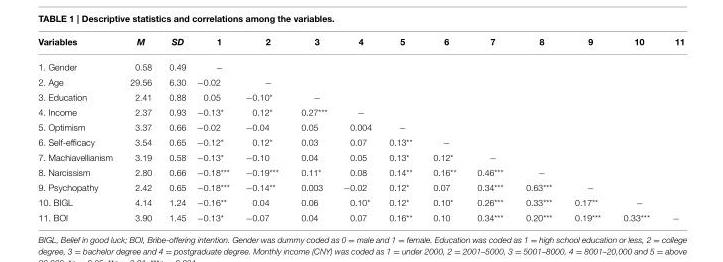table: (37, 37, 683, 222)
table column: (37, 37, 120, 222), (236, 37, 289, 222), (513, 37, 562, 222), (562, 37, 611, 222), (611, 37, 660, 222), (465, 37, 513, 222), (190, 37, 236, 222), (289, 37, 334, 222), (334, 37, 379, 222), (421, 37, 465, 222), (379, 37, 421, 222), (120, 37, 159, 222), (159, 37, 190, 222), (660, 37, 683, 222)
table column header: (37, 37, 683, 54)
table row: (37, 54, 683, 74), (37, 37, 683, 54), (37, 194, 683, 210), (37, 74, 683, 89), (37, 89, 683, 104), (37, 104, 683, 119), (37, 119, 683, 134), (37, 134, 683, 149), (37, 149, 683, 164), (37, 164, 683, 179), (37, 179, 683, 194), (37, 210, 683, 222)
